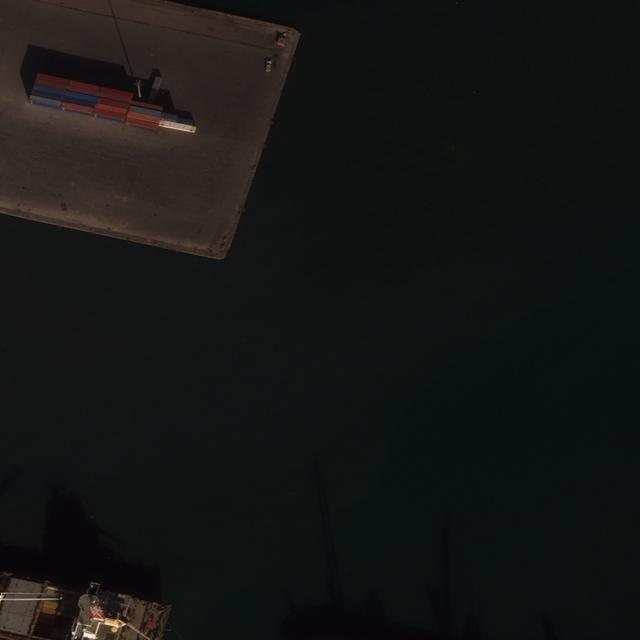Cargo: (1, 568, 173, 639)
